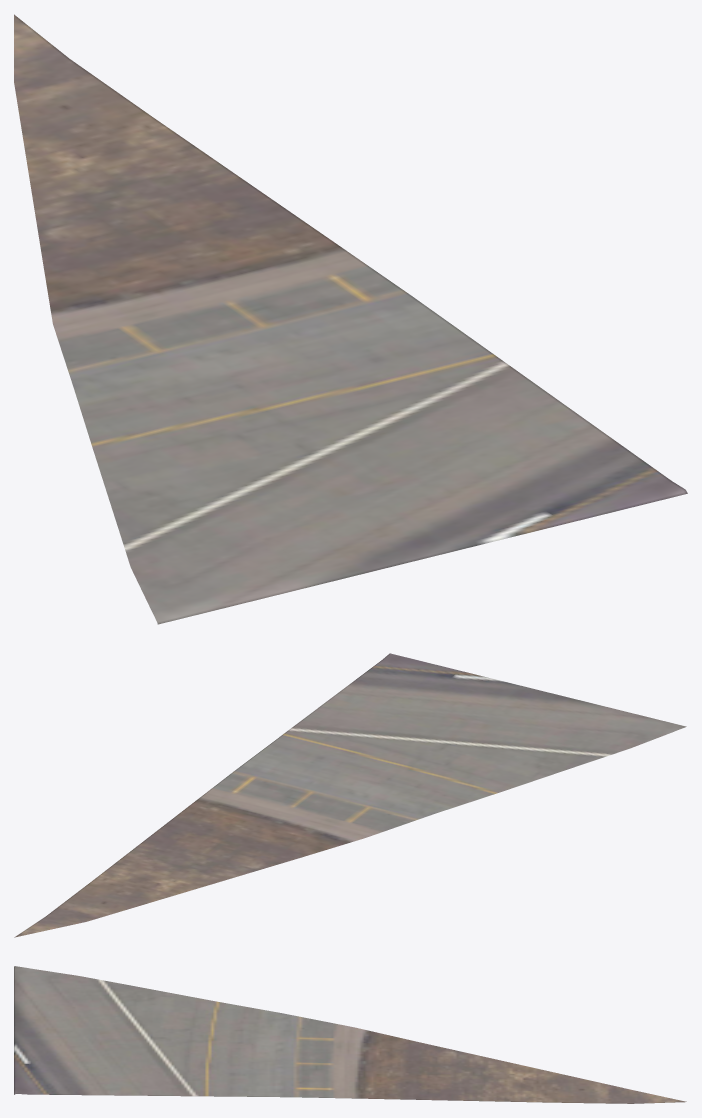
Rendered from terrain_12.glb.
3 renders of one model, top to bottom at view 1: azimuth 30°, elevation 25°; view 2: azimuth 150°, elevation 25°; view 3: azimuth 270°, elevation 25°, orthographic. The views are drawn at different scales.
Visible parts, largest first — view 1: T08250180000106E10.001; view 2: T08250180000106E10.001; view 3: T08250180000106E10.001.
Part boxes in pixels (left/top/right/bottom): T08250180000106E10.001: left=14, top=14, right=687, bottom=624; T08250180000106E10.001: left=14, top=653, right=686, bottom=937; T08250180000106E10.001: left=14, top=966, right=686, bottom=1103.
Size of the model in its own units: 67.31 by 2.43 by 148.
1 material, 1 textured.
